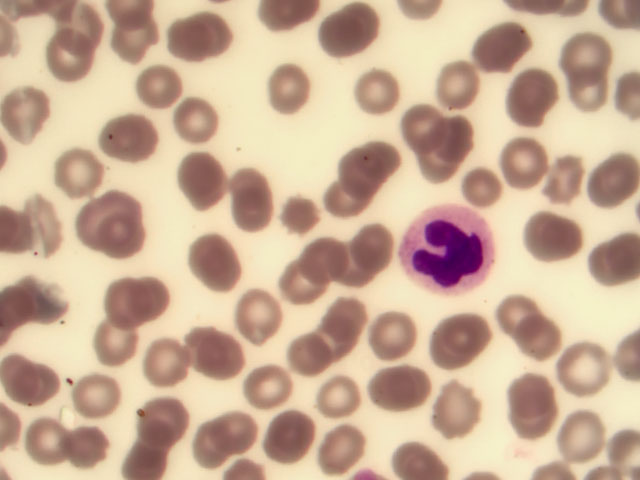RBC: (41, 27, 103, 88), (102, 11, 164, 72), (131, 58, 193, 119), (156, 83, 218, 144), (98, 103, 160, 164), (53, 141, 115, 202), (75, 186, 137, 247), (101, 264, 163, 325), (83, 312, 145, 373), (61, 361, 123, 422), (66, 419, 128, 480), (23, 414, 85, 475), (1, 348, 63, 409), (6, 270, 68, 331), (9, 198, 71, 259), (166, 148, 228, 209), (222, 145, 284, 206), (230, 189, 292, 250), (184, 225, 246, 286), (186, 320, 248, 381), (131, 337, 193, 398), (131, 394, 193, 455), (171, 413, 233, 474), (209, 406, 271, 467), (233, 358, 295, 419), (276, 327, 338, 388), (309, 304, 371, 365), (317, 280, 379, 341), (304, 235, 366, 296), (276, 250, 338, 311), (235, 284, 297, 345), (341, 217, 403, 278), (326, 167, 388, 228), (341, 139, 403, 200), (262, 68, 324, 129), (276, 184, 338, 245), (173, 13, 235, 74), (347, 60, 409, 121), (323, 2, 385, 63), (429, 57, 491, 118), (389, 92, 451, 153), (423, 112, 485, 173), (411, 131, 473, 192), (445, 155, 507, 216), (478, 134, 540, 195), (497, 69, 559, 130), (472, 22, 534, 83), (561, 20, 623, 81), (560, 69, 622, 130), (535, 151, 597, 212), (572, 149, 634, 210), (517, 213, 579, 274), (578, 235, 640, 296), (491, 285, 553, 346), (430, 315, 492, 376), (377, 303, 439, 364), (368, 351, 430, 412), (428, 377, 490, 438), (504, 352, 566, 413), (515, 315, 577, 376), (558, 335, 620, 396), (549, 405, 611, 466), (1, 83, 62, 144), (381, 434, 447, 480), (311, 426, 377, 472), (302, 371, 368, 417)
WBC: (401, 202, 494, 296)
